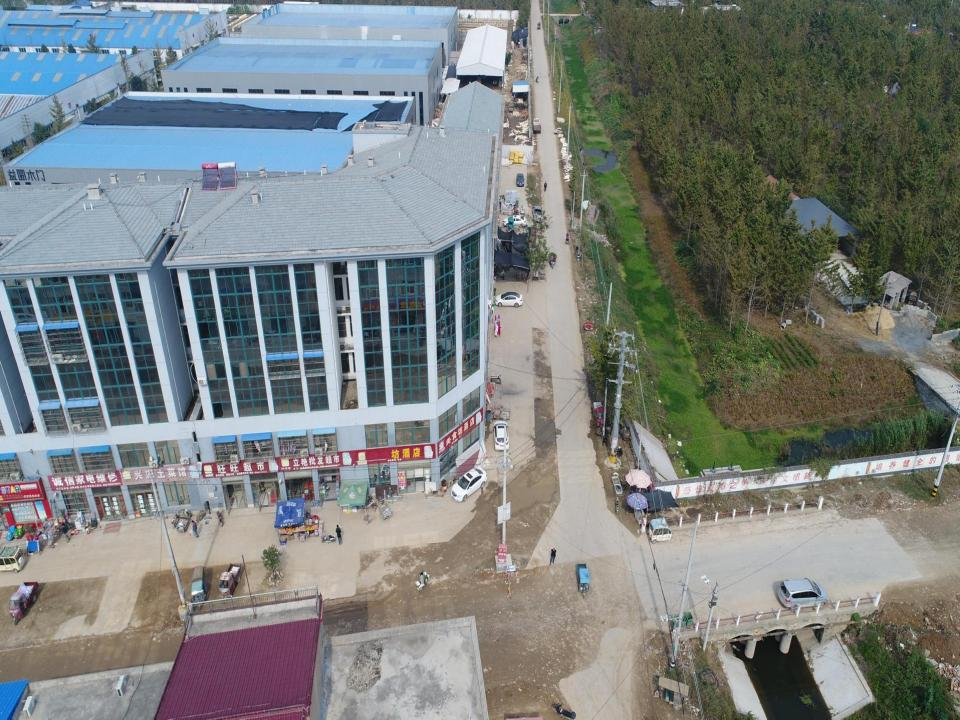car: (775, 576, 829, 608), (451, 466, 487, 502), (493, 418, 511, 452), (494, 290, 524, 308), (502, 214, 526, 228), (515, 172, 525, 187)
truck: (531, 204, 543, 222), (532, 116, 542, 134), (509, 219, 524, 228)
